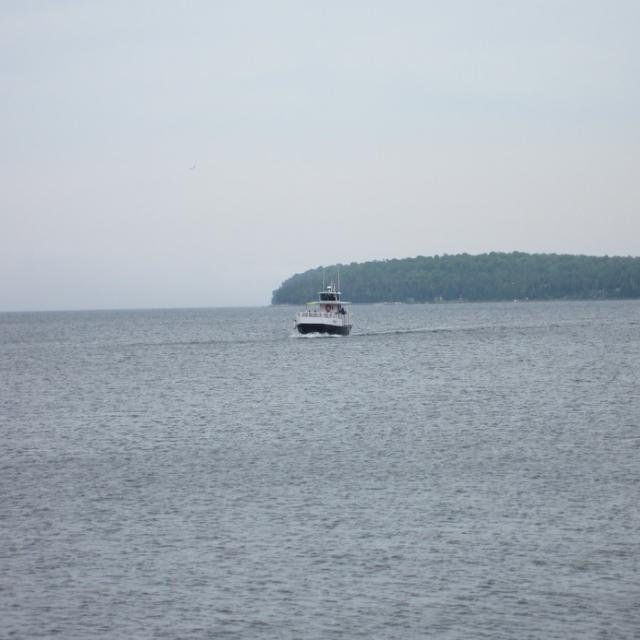houseboat: (293, 280, 359, 338)
